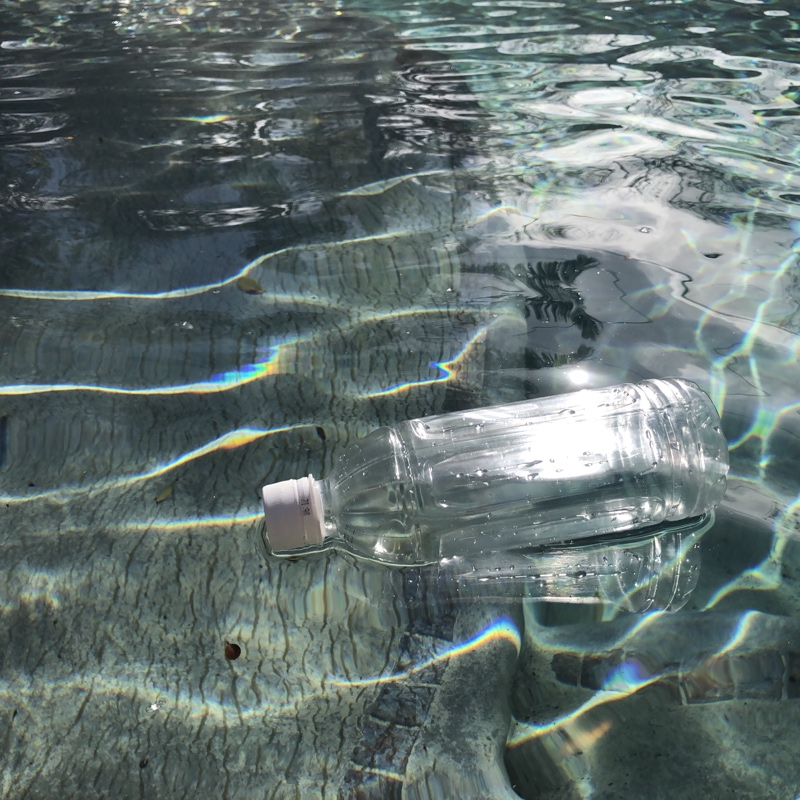Plastic Bottle: (256, 375, 731, 568)
